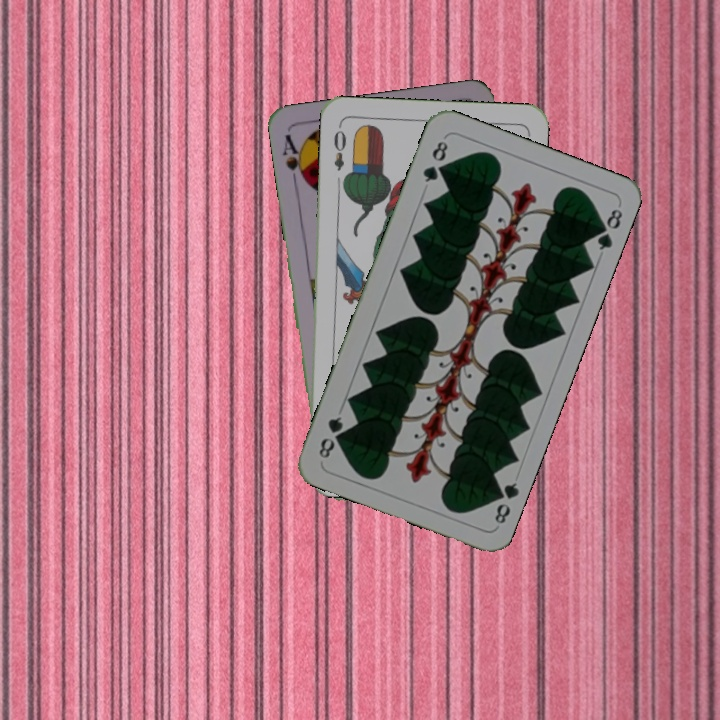EO: (329, 121, 349, 173)
G8: (487, 478, 521, 527), (418, 136, 451, 185)
SA: (278, 130, 310, 189)
